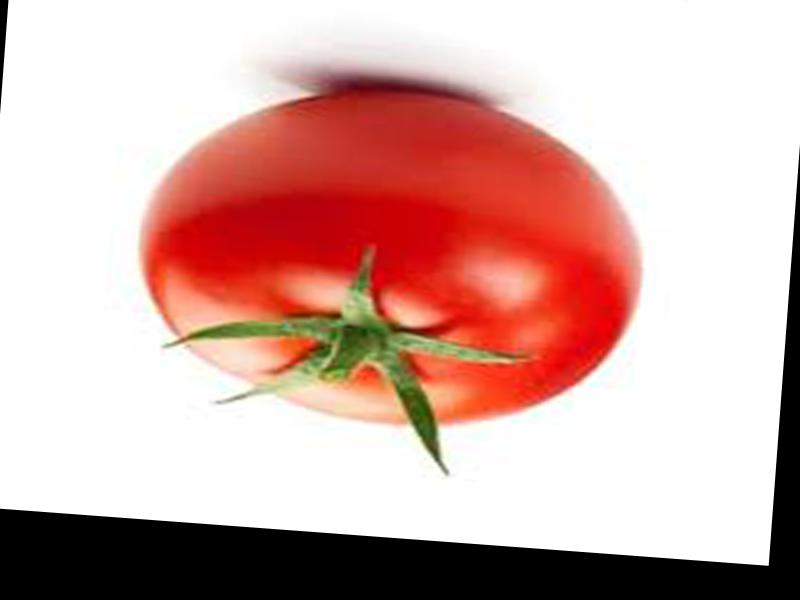Tomato: (134, 70, 647, 440)
